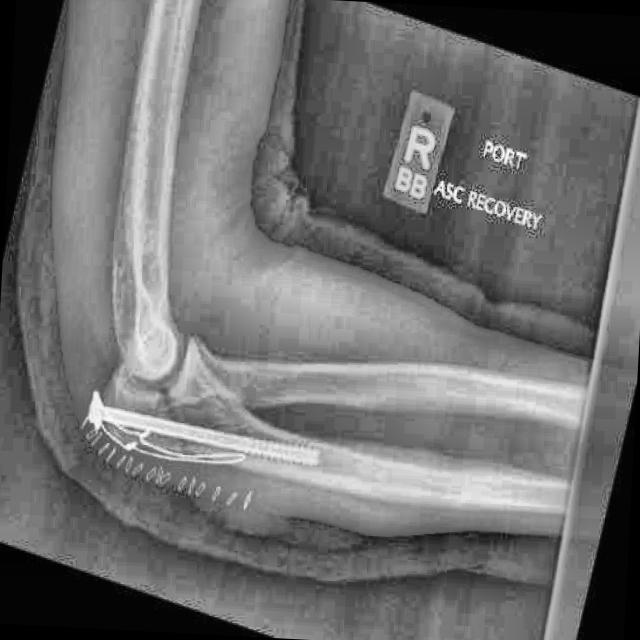elbow positive: (140, 371, 221, 493)
